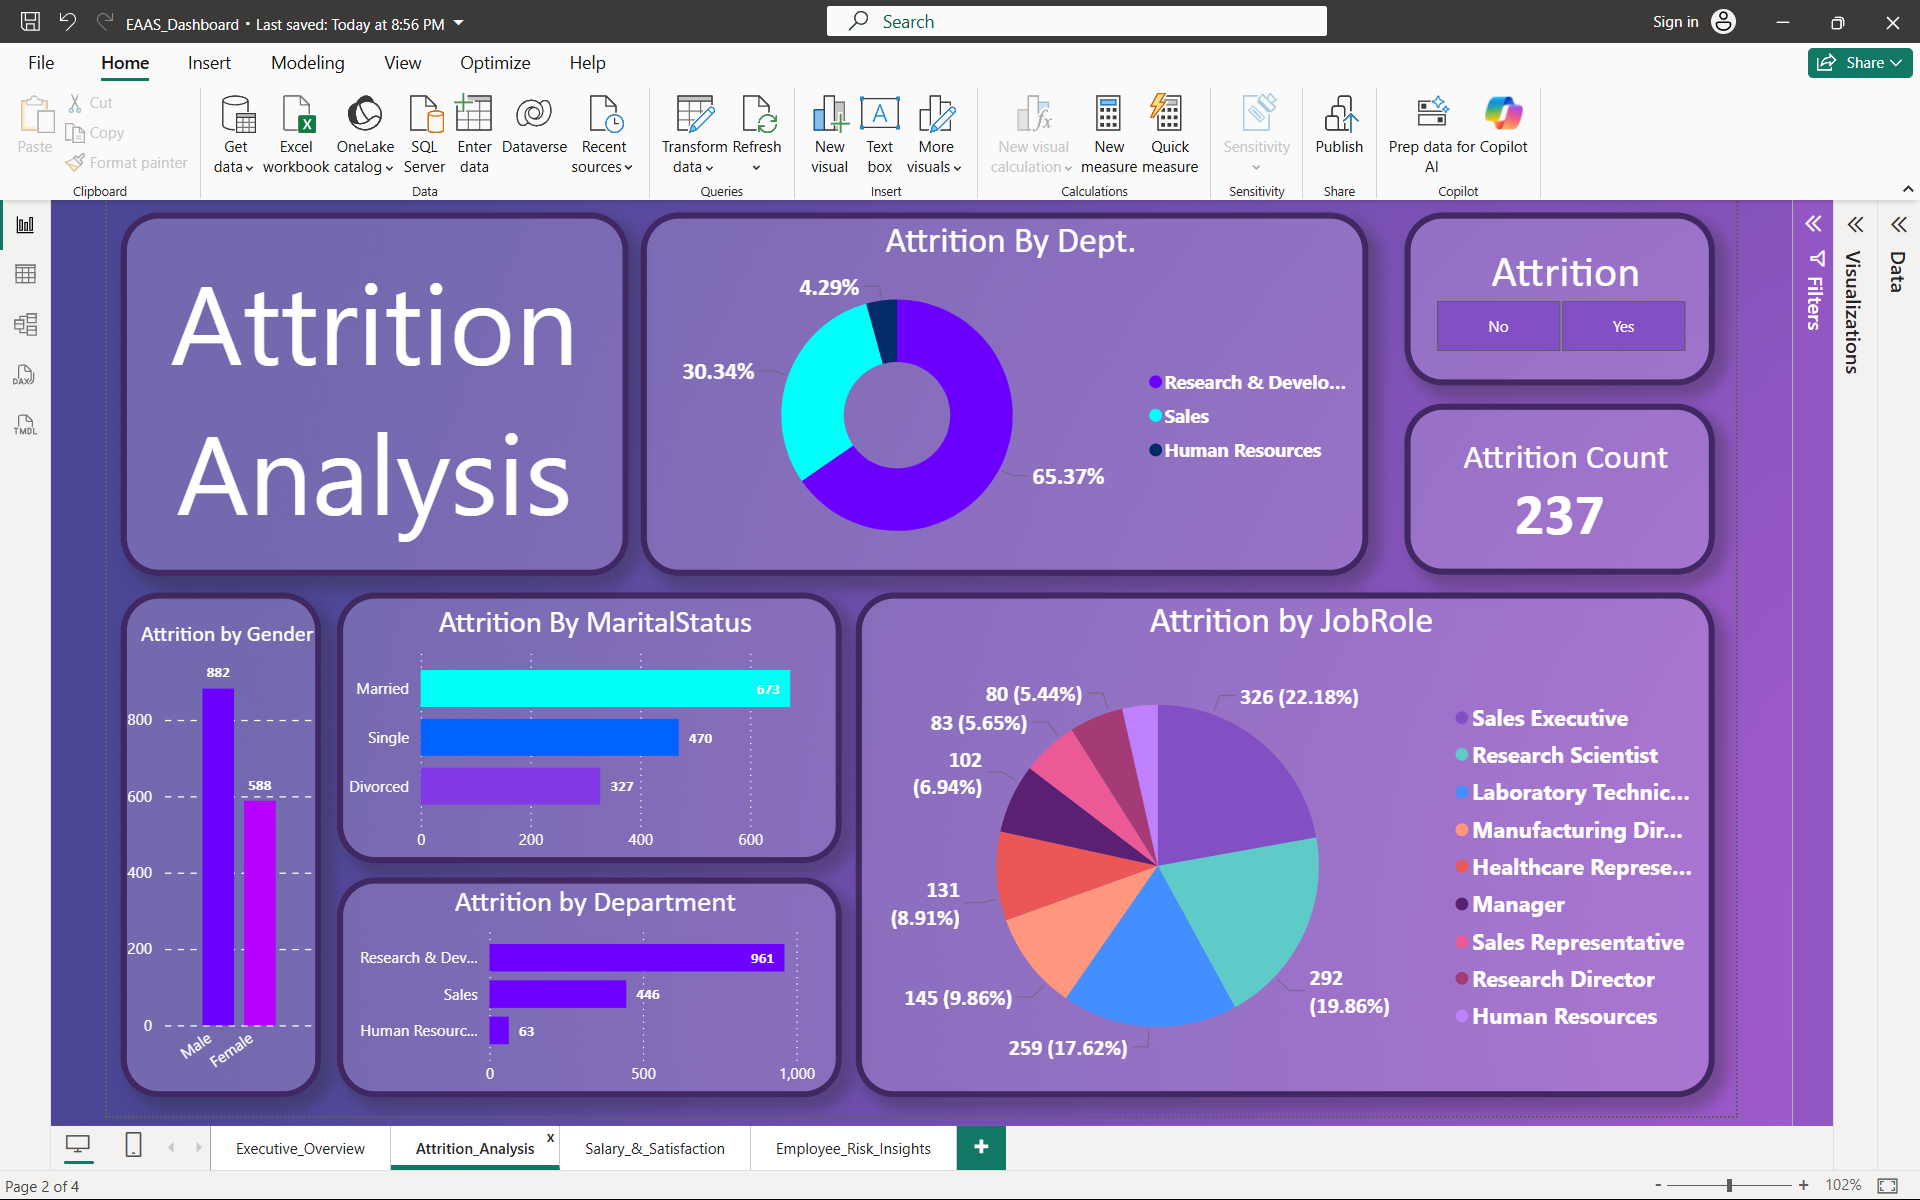

Layout of this report page (visuals, bound fields, positions):
{"tool":"powerbi","page":{"name":"Attrition_Analysis","canvas":[1280,720],"ordinal":1},"visuals":[{"type":"pieChart","title":"Attrition By Dept.","fields":{"Y":["CountNonNull(cleaned_attrition.Department)"],"Category":["cleaned_attrition.Department"]},"box":[419.9,9.6,572.2,285.4],"z":0},{"type":"slicer","title":"Attrition","fields":{"Values":["cleaned_attrition.Attrition"]},"box":[1019.6,9.6,244.3,135.8],"z":1000},{"type":"pieChart","title":"Attrition by JobRole","fields":{"Category":["cleaned_attrition.JobRole"],"Y":["CountNonNull(cleaned_attrition.JobRole)"]},"box":[588.7,308.7,675.1,396.6],"z":2000},{"type":"columnChart","title":"Attrition by Gender","fields":{"Category":["cleaned_attrition.Gender"],"Y":["CountNonNull(cleaned_attrition.Gender)"]},"box":[11,308.7,157.8,396.6],"z":3000},{"type":"clusteredBarChart","title":"Attrition By MaritalStatus","fields":{"Category":["cleaned_attrition.MaritalStatus"],"Y":["CountNonNull(cleaned_attrition.MaritalStatus)"]},"box":[181.1,308.7,396.6,212.7],"z":4000},{"type":"barChart","title":"Attrition by Department","fields":{"Category":["cleaned_attrition.Department"],"Y":["CountNonNull(cleaned_attrition.Department)"]},"box":[181.1,532.4,396.6,172.9],"z":5000},{"type":"card","title":"Attrition Count","fields":{"Values":["cleaned_attrition.Atrr_Count"]},"box":[1019.6,160.5,244.3,134.5],"z":6000},{"type":"textbox","box":[11,9.6,399.3,285.4],"z":7000}]}

Visuals, with their boxes on the page's 1280x720 design canvas (x1, y1, x2, y2). These are canvas units, not pixel positions in the 1920x1200 screenshot, which may show the page scaled, cropped or inside an application window:
"Attrition By Dept." pieChart: box=[420, 10, 992, 295]
"Attrition" slicer: box=[1020, 10, 1264, 145]
"Attrition by JobRole" pieChart: box=[589, 309, 1264, 705]
"Attrition by Gender" columnChart: box=[11, 309, 169, 705]
"Attrition By MaritalStatus" clusteredBarChart: box=[181, 309, 578, 521]
"Attrition by Department" barChart: box=[181, 532, 578, 705]
"Attrition Count" card: box=[1020, 160, 1264, 295]
textbox: box=[11, 10, 410, 295]
